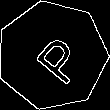P_NW: (20, 25, 84, 86)
